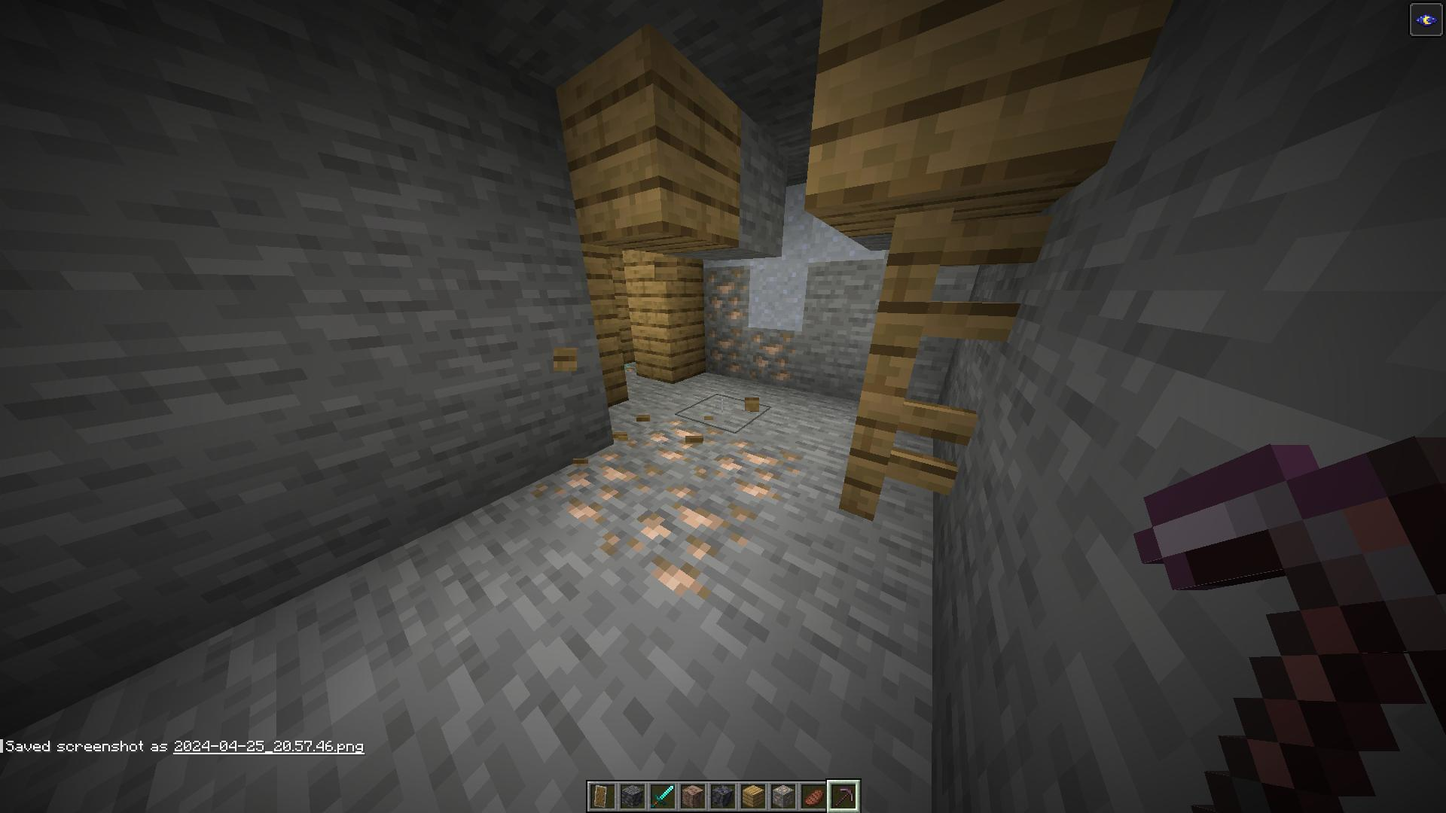iron ore: (620, 487, 748, 574), (540, 454, 656, 522), (707, 437, 807, 501), (632, 416, 713, 467), (703, 269, 755, 324), (745, 333, 796, 382), (708, 319, 746, 374)
